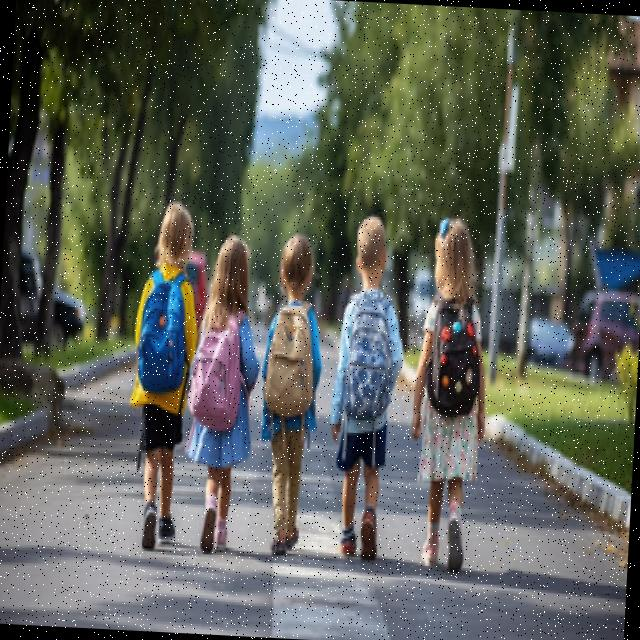Person: (404, 217, 496, 573), (323, 216, 410, 562), (120, 199, 204, 552), (176, 233, 266, 554), (253, 232, 329, 560)
